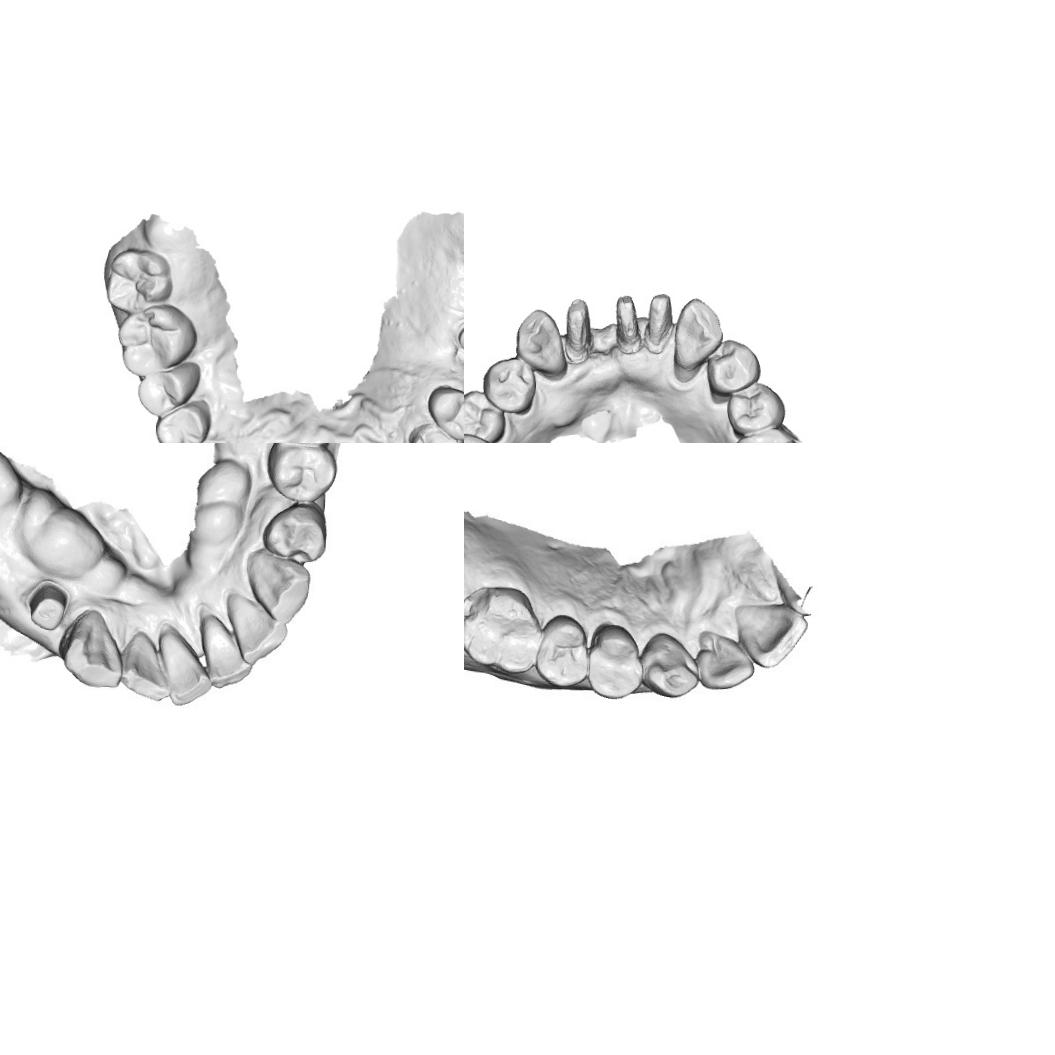abutment: (17, 577, 72, 640)
canine: (56, 602, 134, 692), (244, 550, 314, 615), (638, 630, 702, 700), (670, 296, 724, 378), (510, 307, 572, 378)
crown: (560, 294, 599, 360), (610, 292, 646, 355), (641, 290, 676, 352)
implant_minus: (453, 317, 464, 354)
incisor: (731, 601, 811, 671), (118, 627, 179, 702), (198, 613, 257, 688), (226, 592, 287, 664), (164, 625, 214, 710), (694, 626, 757, 692)
molar: (464, 584, 544, 676), (115, 301, 199, 381), (102, 246, 176, 312), (264, 443, 333, 504)
premolar: (586, 622, 644, 701), (534, 611, 590, 692), (260, 502, 330, 563), (704, 337, 762, 404), (724, 378, 788, 438), (482, 356, 538, 416), (135, 365, 194, 420), (152, 400, 213, 443), (464, 388, 511, 443), (423, 382, 464, 443), (407, 421, 463, 443)
